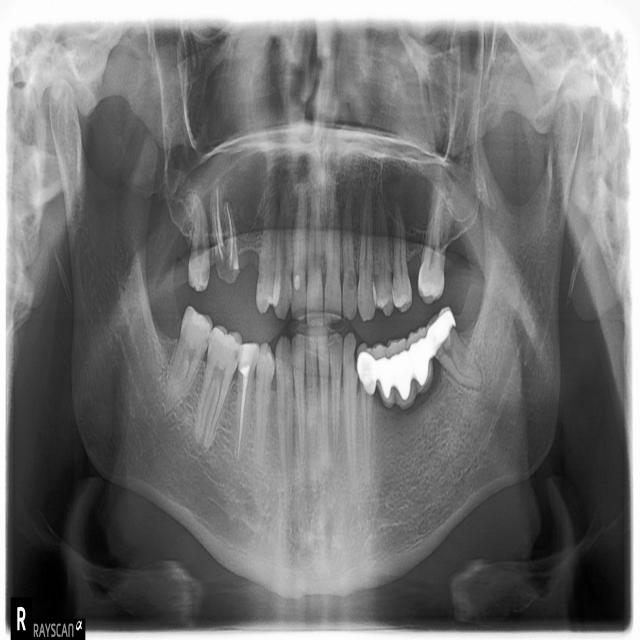mandibula: (52, 81, 584, 599)
